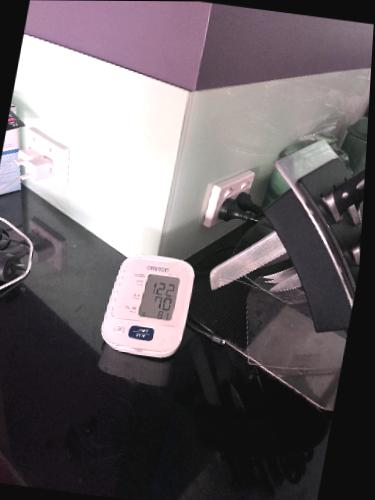bpm: (135, 270, 181, 322)
